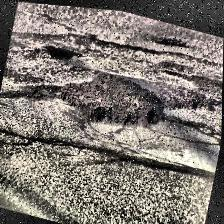pothole: (51, 57, 176, 148)
